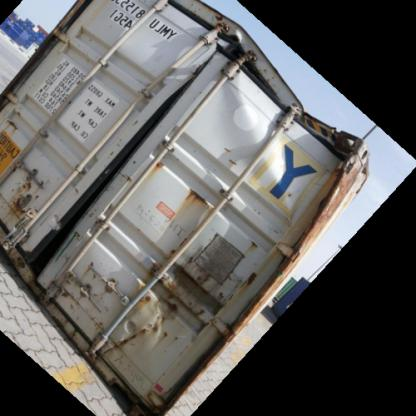Damage: (238, 51, 358, 217), (8, 169, 102, 297), (114, 49, 190, 197), (135, 257, 193, 336), (180, 186, 216, 212)
